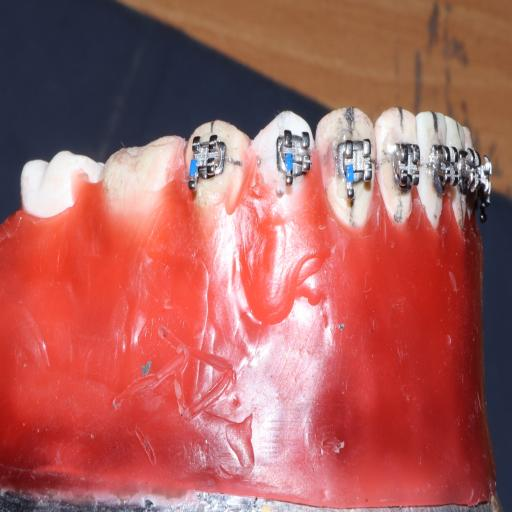correct_brace: (252, 111, 317, 193)
incorrect_brace: (273, 130, 314, 178)
